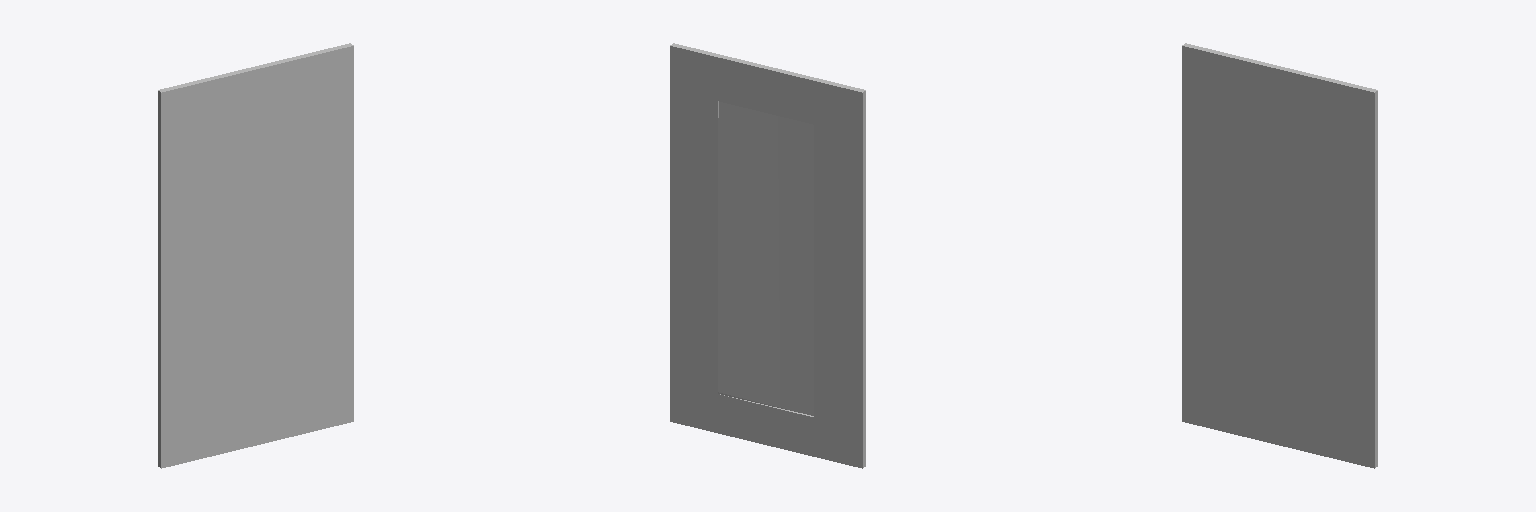
The model's file is housesp_016.obj.
3 views of the same model, side by side, from view 1: azimuth 30°, elevation 25°; view 2: azimuth 150°, elevation 25°; view 3: azimuth 330°, elevation 25° (orthographic).
Size of the model in its own units: 12.81 by 23.91 by 0.4027.